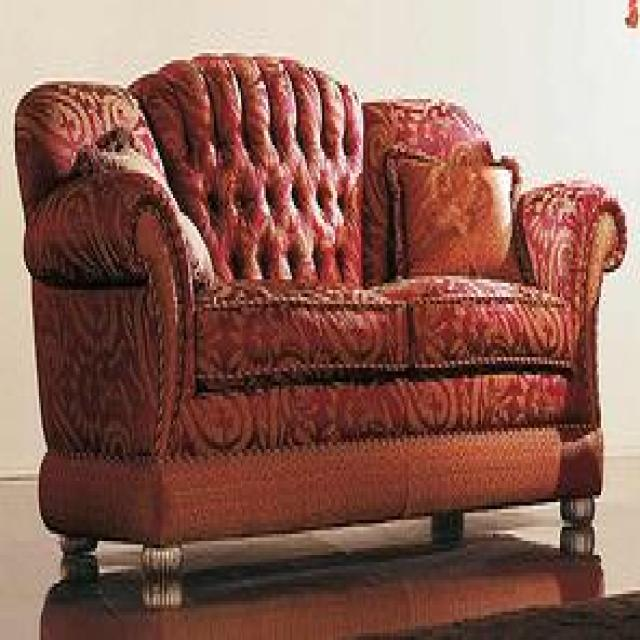sofa: (14, 50, 628, 612)
